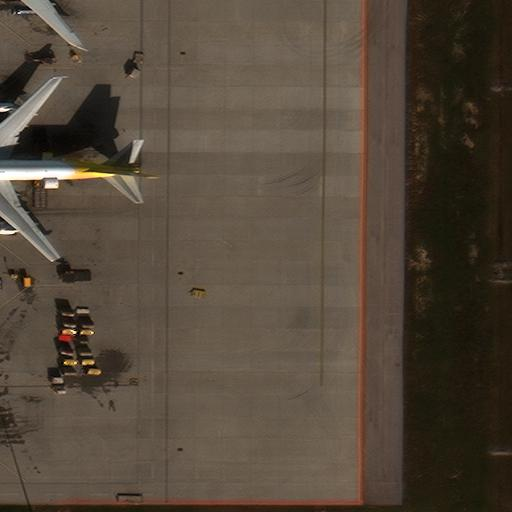Large Civil Transport: (0, 78, 140, 262), (0, 0, 117, 46)
